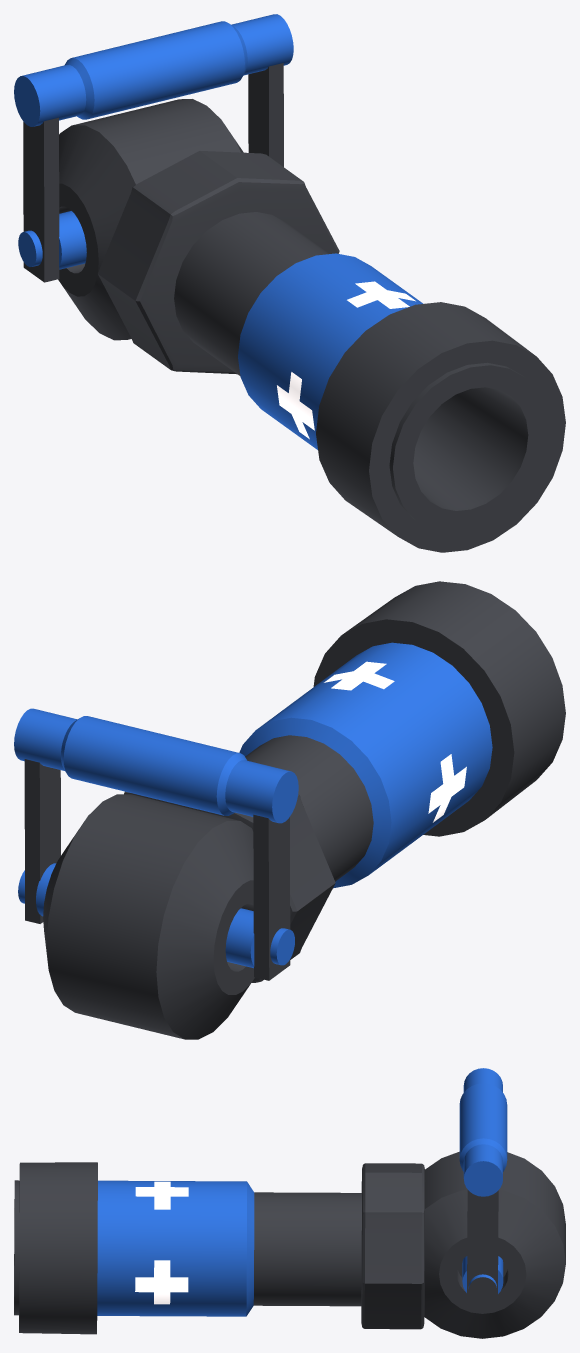
The model's file is HealGun.fbx.
3 views of the same model, one above another, from view 1: azimuth 30°, elevation 25°; view 2: azimuth 150°, elevation 25°; view 3: azimuth 270°, elevation 25° (orthographic). The views are drawn at different scales.
Visible parts, largest first — view 1: Cylinder.025; view 2: Cylinder.025; view 3: Cylinder.025.
Part boxes in pixels (x1=…): Cylinder.025: x1=14, y1=14, x2=565, y2=552; Cylinder.025: x1=14, y1=581, x2=565, y2=1039; Cylinder.025: x1=14, y1=1068, x2=565, y2=1338.
Size of the model in its own units: 126 by 135 by 315.
